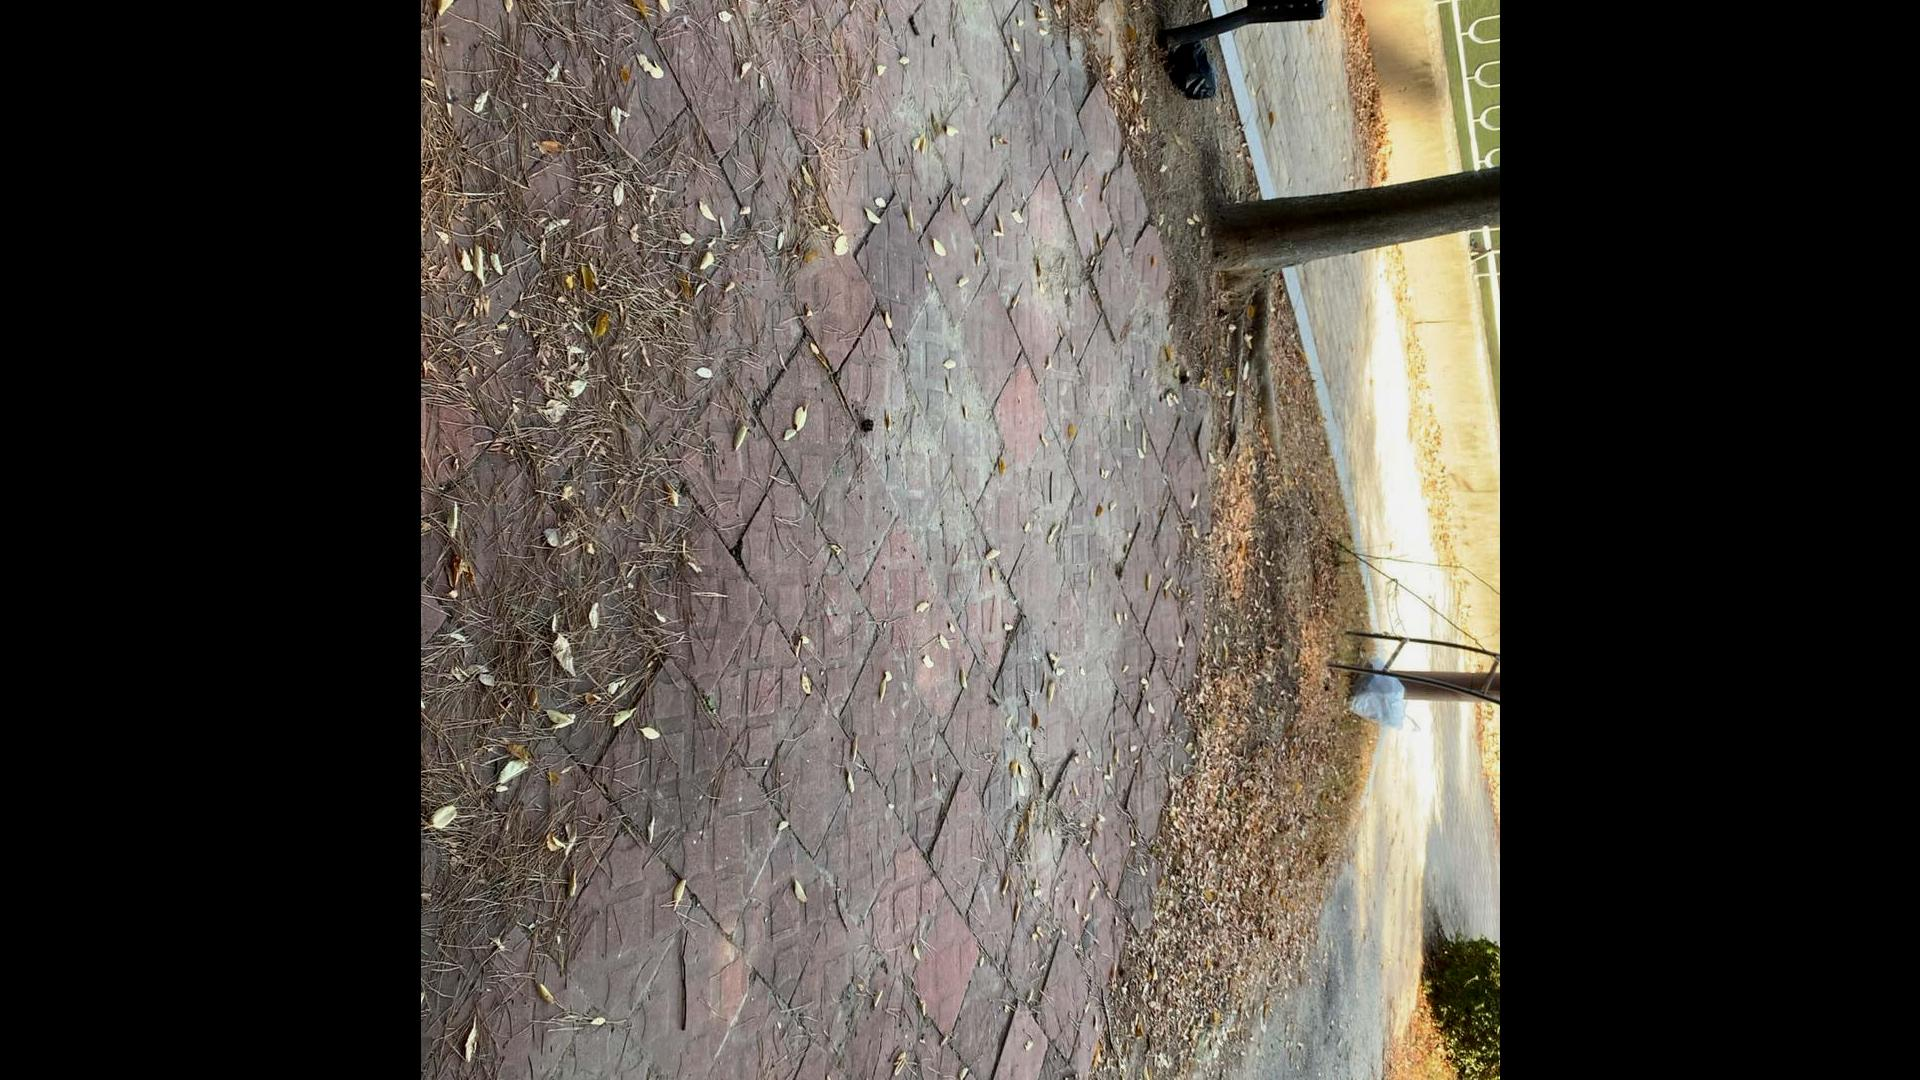black_bag: (1162, 44, 1220, 103)
white_bag: (1345, 653, 1424, 738)
